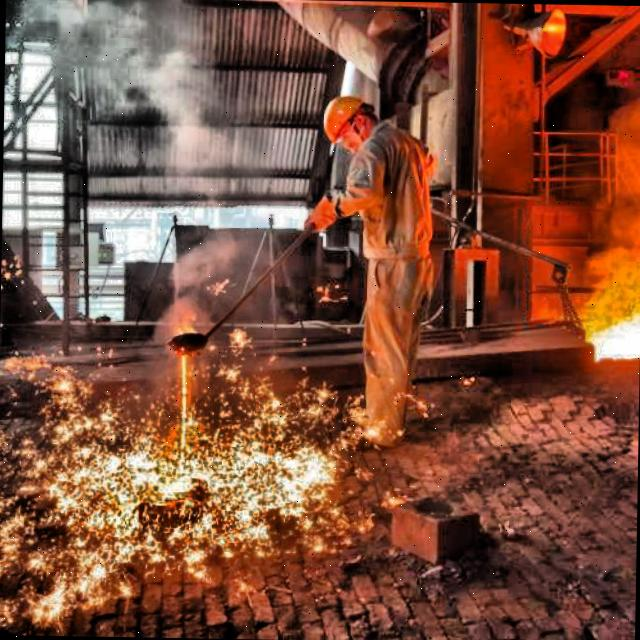helmet: (316, 87, 381, 156)
